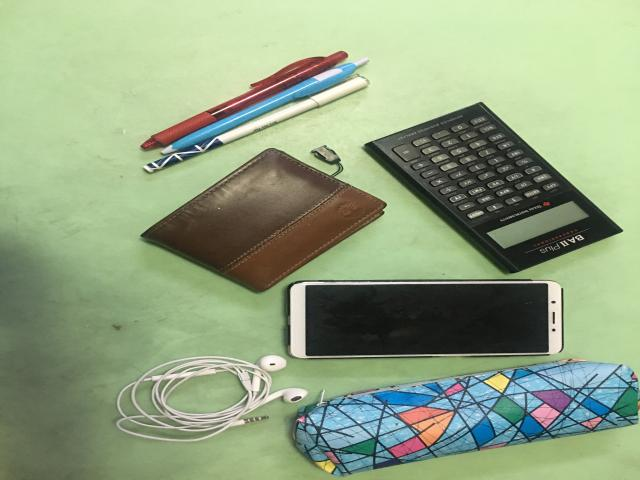Mobile phone: (288, 279, 563, 358)
Pen: (140, 52, 370, 174)
Wallet: (142, 148, 385, 292)
wire: (117, 355, 308, 442)
